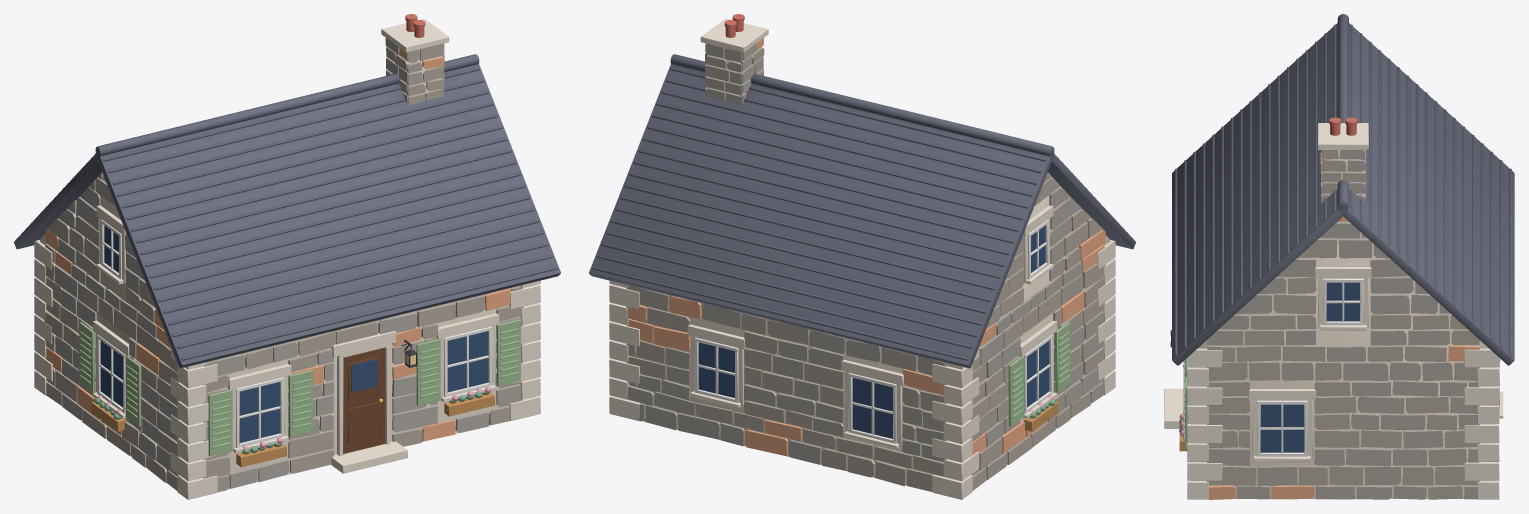
Rendered from stone_house.glb.
3 renders of one model, left to right at view 1: azimuth 30°, elevation 25°; view 2: azimuth 150°, elevation 25°; view 3: azimuth 270°, elevation 25°, orthographic.
Parts seen in each view (by area): view 1: stone-house_body, stone-house_details, stone-house_stonework; view 2: stone-house_body, stone-house_stonework, stone-house_details; view 3: stone-house_body, stone-house_stonework, stone-house_details.
Part boxes in pixels (x1,y1,x2,y2): stone-house_body: (14, 49, 560, 489); stone-house_details: (34, 14, 540, 499); stone-house_stonework: (44, 38, 523, 491); stone-house_body: (589, 48, 1135, 485); stone-house_stonework: (626, 38, 1105, 491); stone-house_details: (609, 14, 1115, 499); stone-house_body: (1172, 14, 1514, 498); stone-house_stonework: (1206, 150, 1479, 499); stone-house_details: (1164, 117, 1503, 499).
Size of the model in its own units: 8.76 by 7.74 by 6.89.
Materials: 17 (1 with a texture image).
